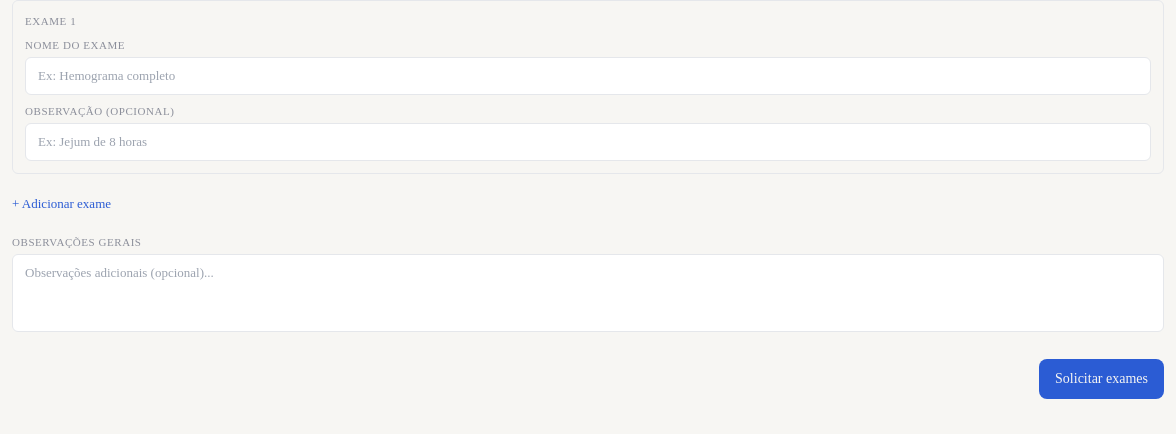
Test case: ExameForm (integration) › shows validation error when item name is empty on submit
Step 1. Click the button with test id "exame-form-submit" → point(1102, 379), box [1039, 359, 1164, 399]
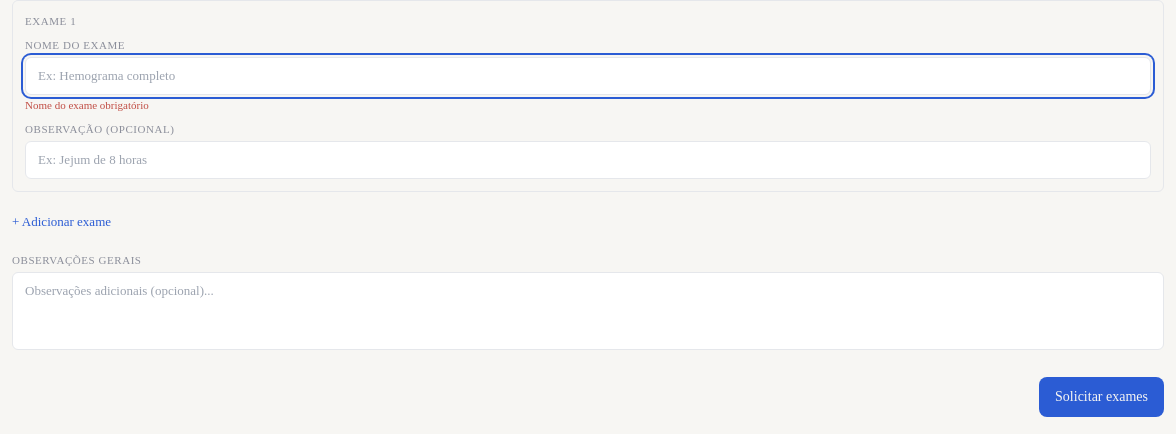
Result: the message "Nome do exame obrigatório" is shown at [25, 99, 149, 111]
